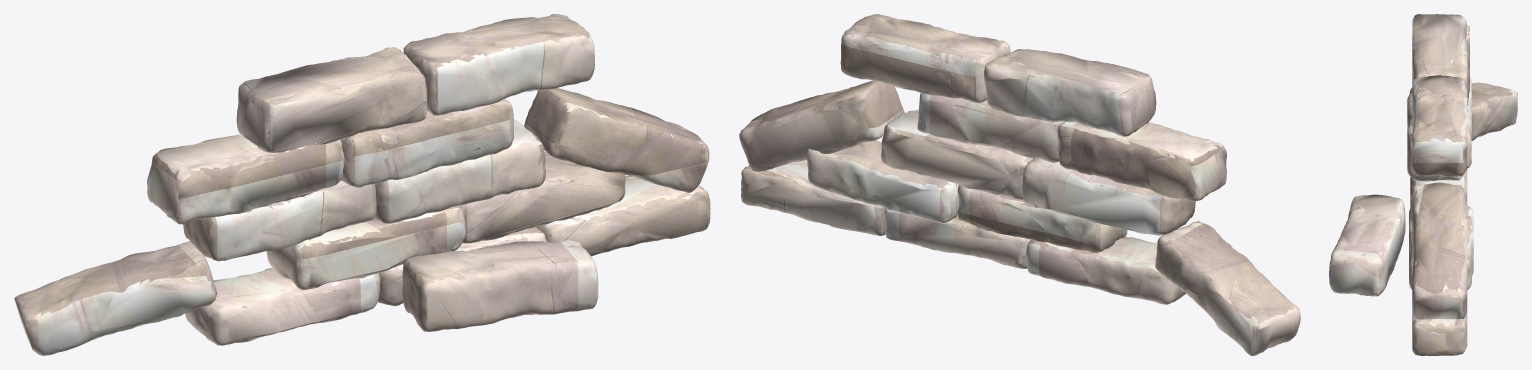
File: brickA.fbx
The picture shows the model from 3 angles, left to right: view 1: azimuth 30°, elevation 25°; view 2: azimuth 150°, elevation 25°; view 3: azimuth 270°, elevation 25°; orthographic projection. The views are drawn at different scales.
Visible parts, largest first — view 1: Box043; view 2: Box043; view 3: Box043.
Boxes of the visible parts, left/top/right/bottom form: Box043: left=14, top=14, right=710, bottom=355; Box043: left=739, top=14, right=1300, bottom=355; Box043: left=1329, top=14, right=1517, bottom=355.
Bounding box in the file's own units: 481 × 163 × 157.
